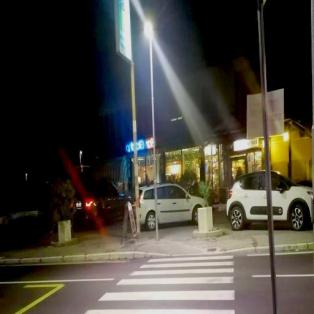Paso de Cebra: (96, 275, 239, 305), (139, 253, 238, 269)
